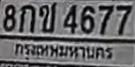4: (63, 4, 76, 33)
6: (80, 5, 94, 33)
7: (98, 4, 113, 34), (116, 4, 131, 34)
8: (2, 4, 15, 30)
A01: (18, 4, 35, 32)
A10: (39, 1, 56, 32)
BKK: (12, 41, 114, 62)
